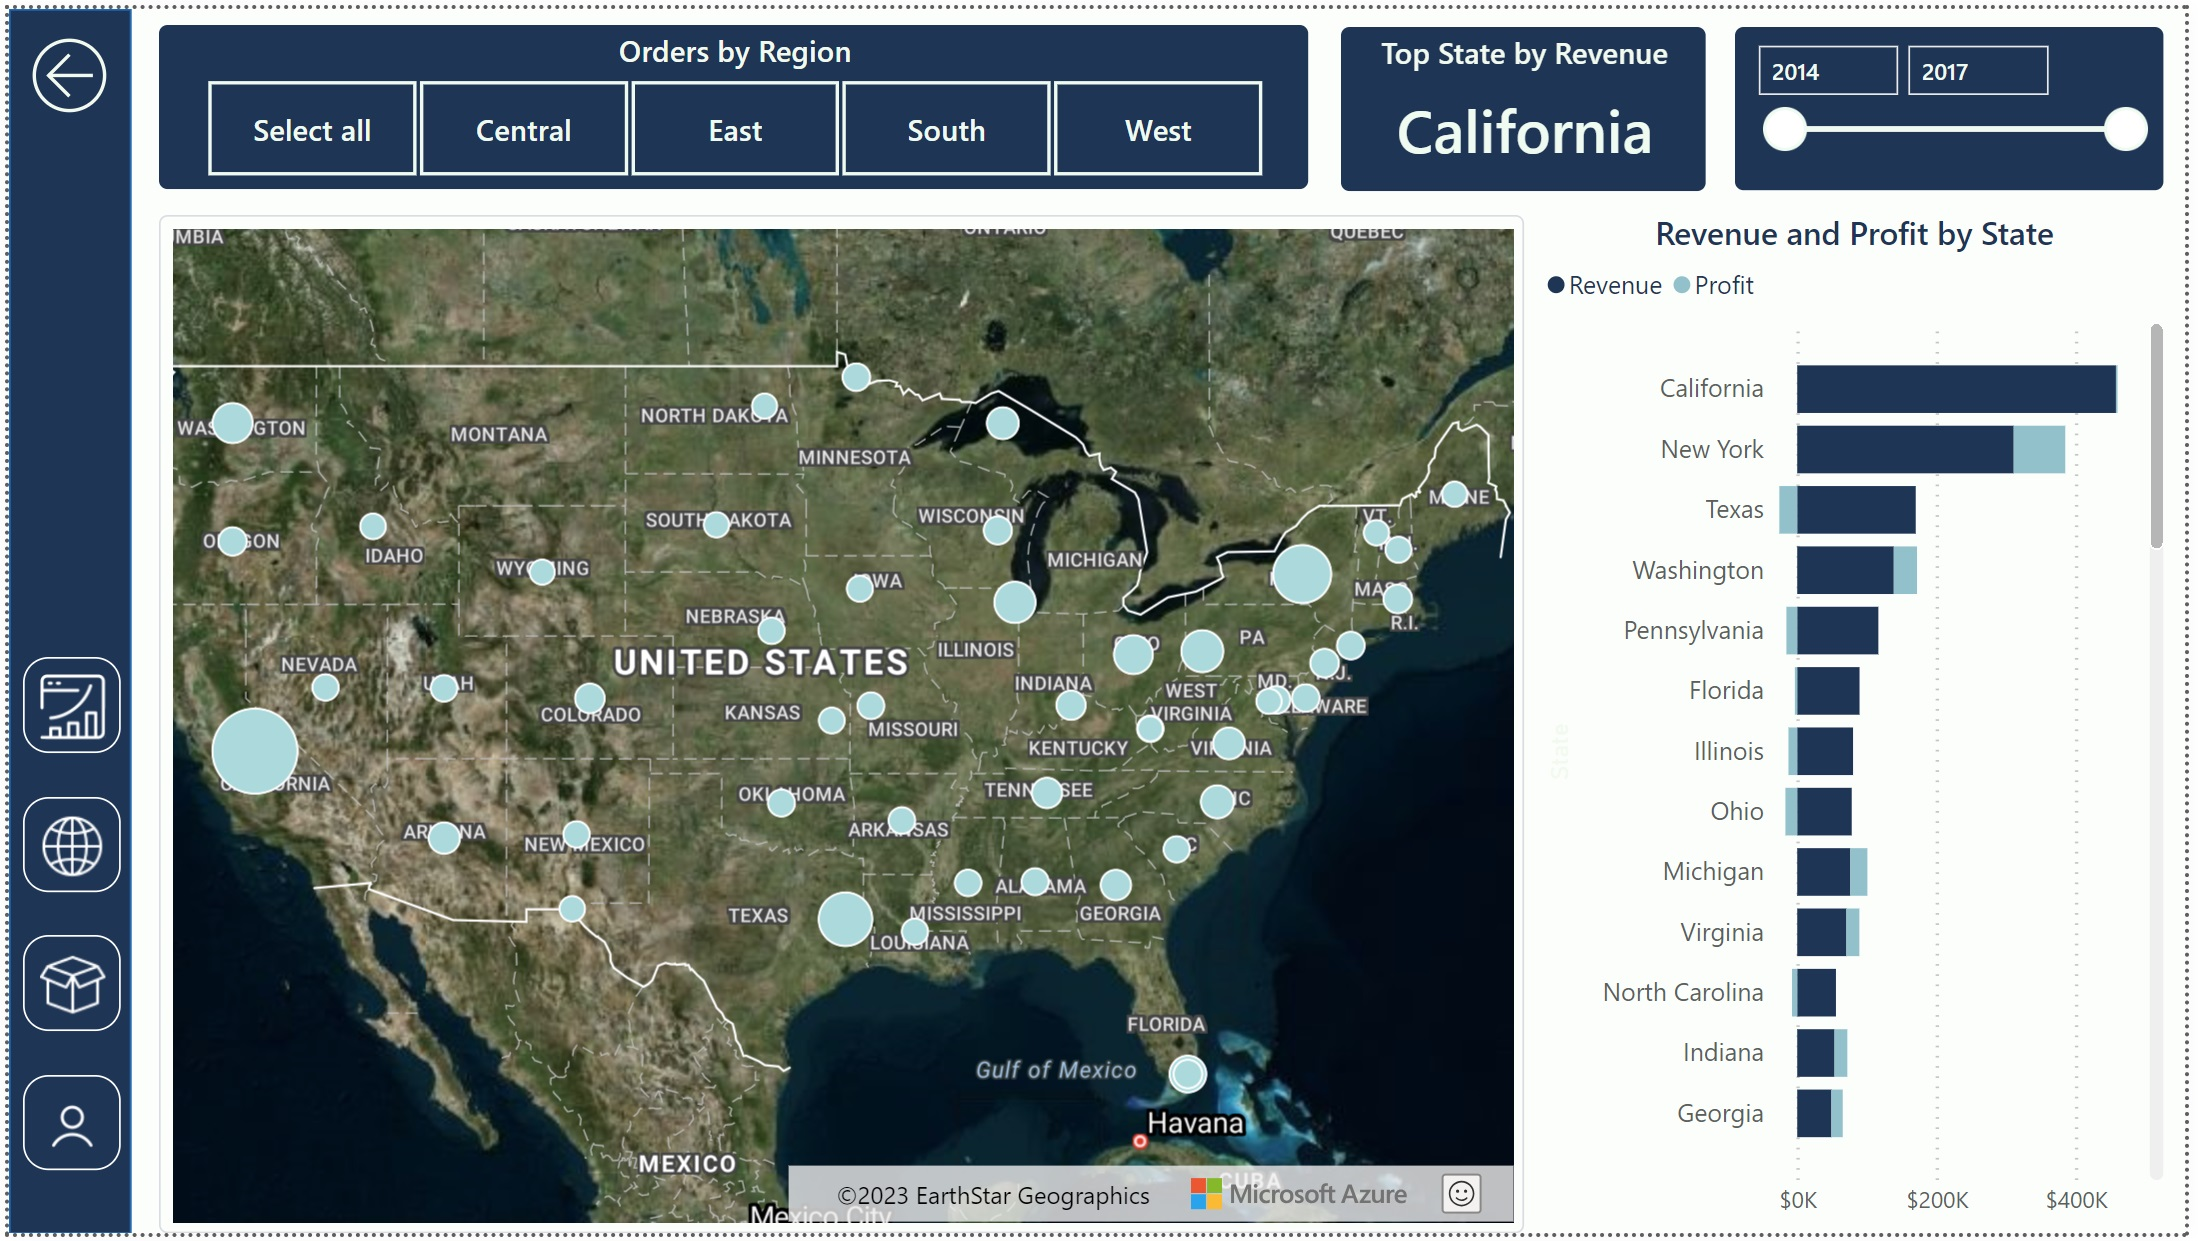

The dashboard page shown, as its layout file describes it:
{"tool":"powerbi","page":{"name":"Locations","canvas":[1280,720],"ordinal":1},"visuals":[{"type":"azureMap","fields":{"Category":["Locations.Geography Hierarchy.Country","Locations.Geography Hierarchy.Region","Locations.Geography Hierarchy.State","Locations.Geography Hierarchy.City","Locations.Geography Hierarchy.Postal Code"],"Size":["Measure Table.Orders"]},"box":[88.4,120.9,803.1,599.1],"z":0},{"type":"actionButton","title":"Customers","box":[8,627.3,57.7,56],"z":0,"group":"g1"},{"type":"slicer","title":"Orders by Region","fields":{"Values":["Locations.Region"]},"box":[88.8,10,676.1,96.6],"z":1000},{"type":"actionButton","title":"Products","box":[8,544.9,57.7,56.6],"z":1000,"group":"g1"},{"type":"shape","box":[0,0,72,720.3],"z":2000},{"type":"actionButton","title":"Globe","box":[8,463.2,57.7,56],"z":2000,"group":"g1"},{"type":"slicer","fields":{"Values":["Calendar.Year"]},"box":[1014.9,10.4,252.1,96.2],"z":3000},{"type":"actionButton","title":"Dashboard","box":[8,380.8,57.7,56.6],"z":3000,"group":"g1"},{"type":"barChart","title":"Revenue and Profit by State ","fields":{"Category":["Locations.State"],"Y":["Measure Table.Revenue","Measure Table.Profit"]},"box":[898.9,119.1,373.4,601.1],"z":4000},{"type":"card","title":"Top State by Revenue","fields":{"Values":["Min(Locations.State)"]},"box":[783,10,214.3,96.6],"z":5000},{"type":"actionButton","box":[6.8,10.2,58,56.8],"z":6000},{"type":"group","id":"g1","title":"Group 1","box":[8,380.8,57.7,302.5],"z":7000}]}

Visuals, with their boxes in screenshot pixels (x1, y1, x2, y2), scaled from the page's 1280x720 canvas onto the 2198x1241 screenshot:
azureMap - Locations.Geography Hierarchy.Country x Locations.Geography Hierarchy.Region: region(152, 208, 1531, 1240)
"Customers" actionButton: region(14, 1081, 113, 1178)
"Orders by Region" slicer: region(152, 17, 1313, 184)
"Products" actionButton: region(14, 939, 113, 1037)
shape: region(0, 0, 124, 1240)
"Globe" actionButton: region(14, 798, 113, 895)
slicer - Calendar.Year: region(1743, 18, 2176, 184)
"Dashboard" actionButton: region(14, 656, 113, 754)
"Revenue and Profit by State " barChart: region(1544, 205, 2185, 1240)
"Top State by Revenue" card: region(1345, 17, 1713, 184)
actionButton: region(12, 18, 111, 115)
"Group 1" group: region(14, 656, 113, 1178)
